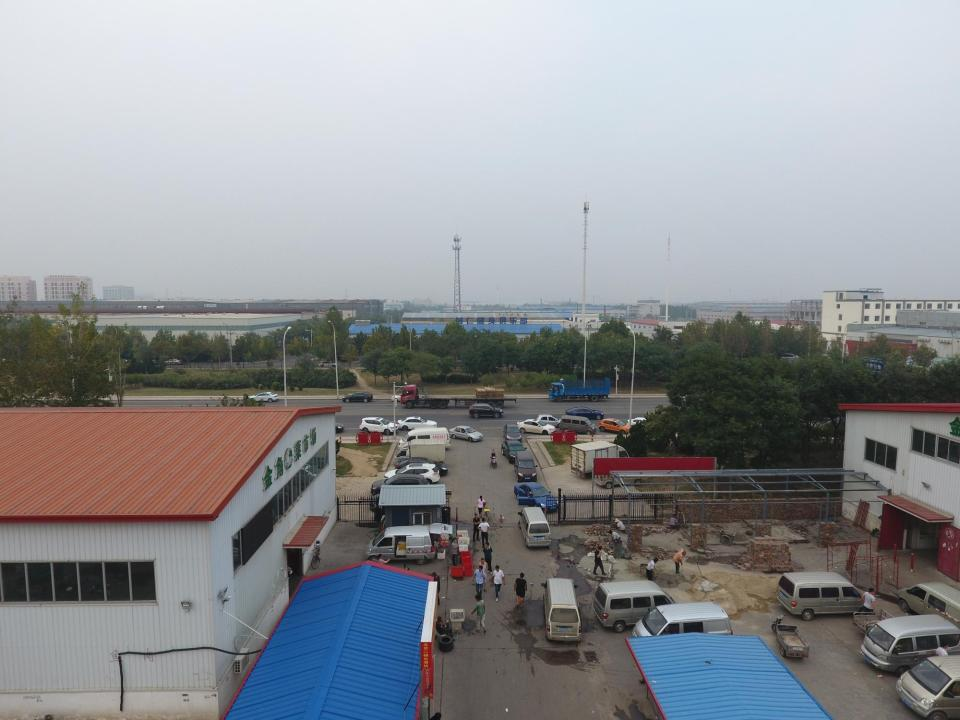car: (894, 652, 960, 716), (515, 482, 558, 515), (384, 462, 440, 484), (372, 473, 426, 495), (395, 456, 448, 476), (558, 415, 596, 435), (514, 450, 537, 482), (359, 416, 397, 434), (516, 419, 556, 436), (397, 415, 438, 431), (501, 440, 527, 465), (448, 424, 483, 442), (566, 407, 604, 422), (599, 419, 630, 434), (469, 404, 502, 418), (536, 414, 564, 426), (504, 424, 522, 442), (342, 392, 373, 402), (248, 392, 278, 402)
truck: (400, 383, 517, 408), (570, 440, 630, 476), (548, 379, 612, 401), (395, 439, 445, 464)
van: (860, 615, 960, 670), (632, 601, 736, 651), (775, 570, 869, 620), (593, 580, 678, 634), (366, 524, 436, 564), (896, 580, 960, 622), (543, 578, 583, 644), (518, 506, 552, 548), (399, 428, 449, 451)
